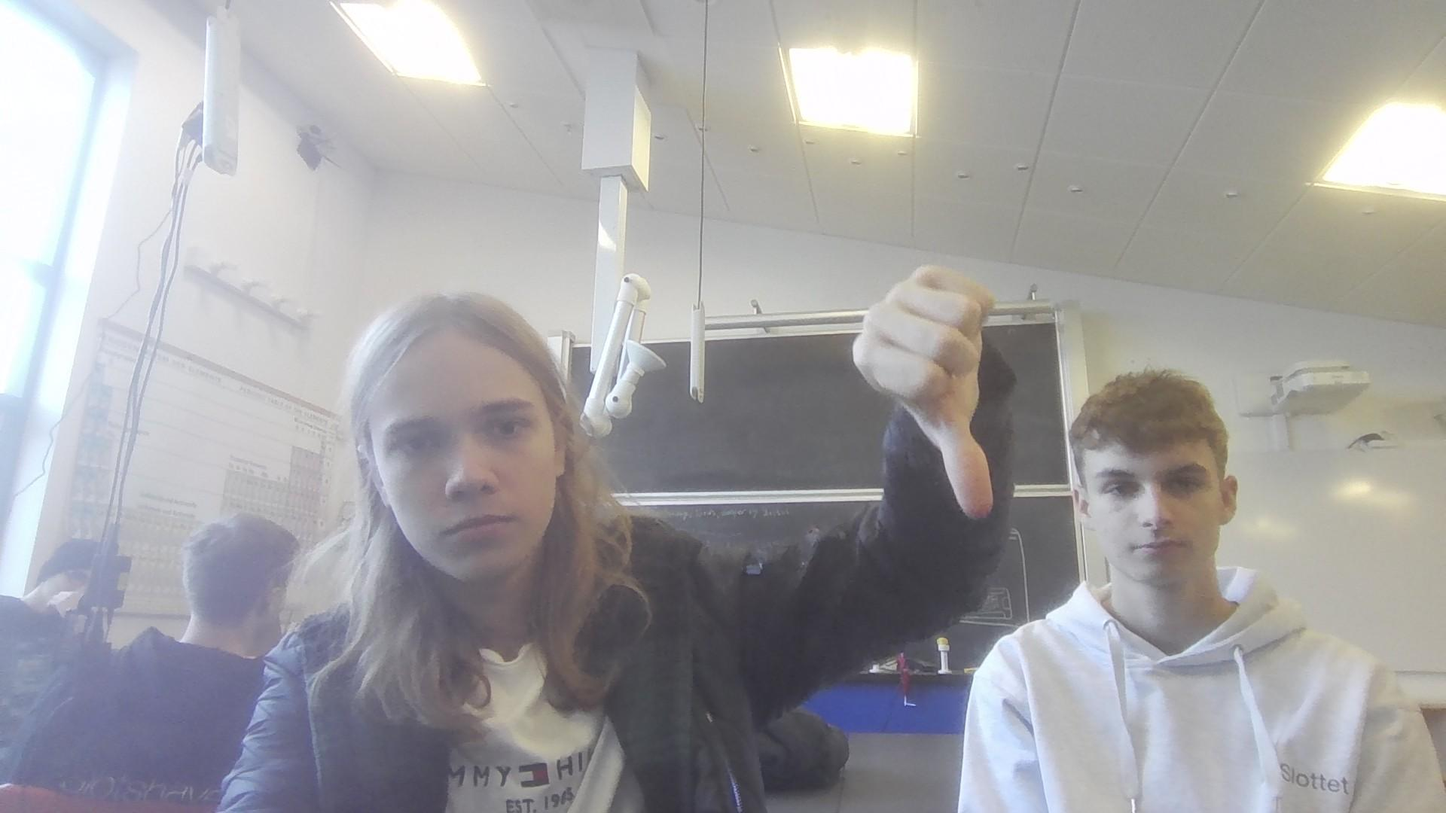thumbs down: (861, 264, 1013, 519)
